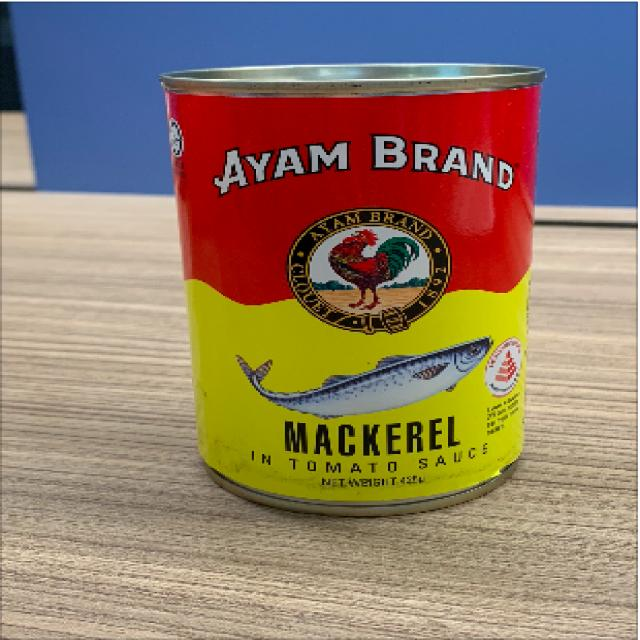object_name: (157, 59, 546, 513)
